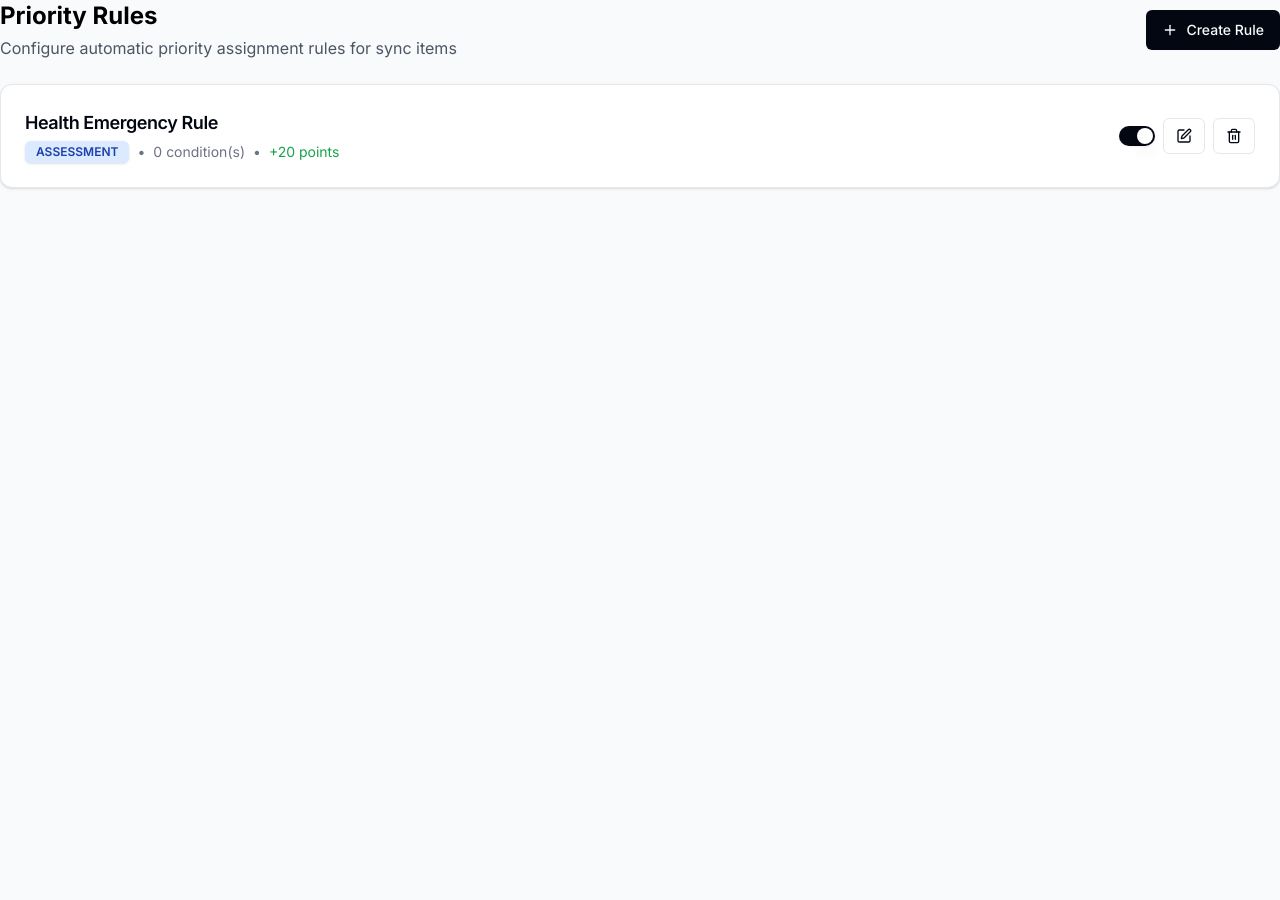
Test case: PriorityRuleManager › edits existing rule correctly
Click edit button for the first rule
Click the button with test id "edit-rule-rule-1" at {"x": 1184, "y": 136}, box 1163,118 -> 1205,154
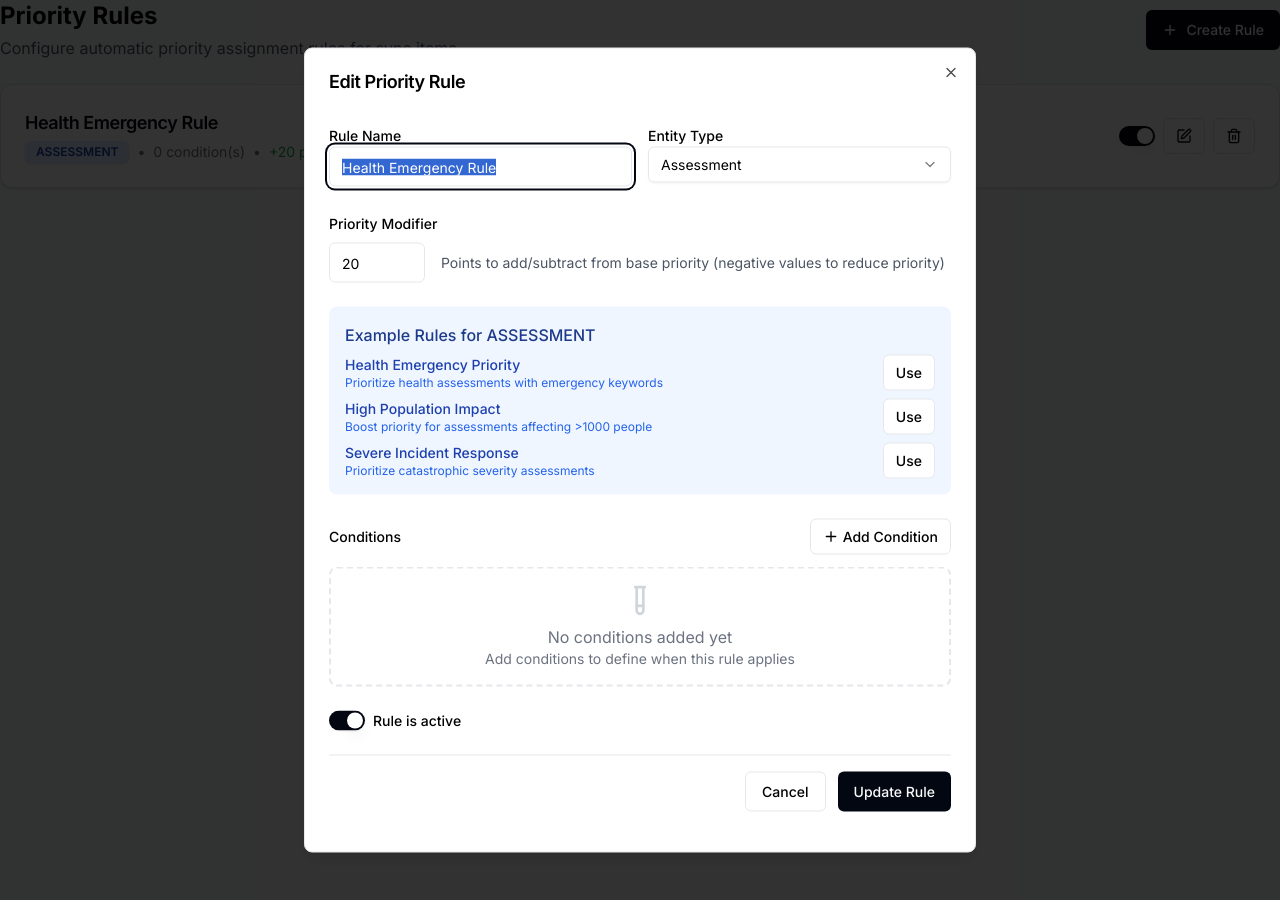
Check: the field showing "Health Emergency Rule" is shown, box 329,146 -> 632,186
